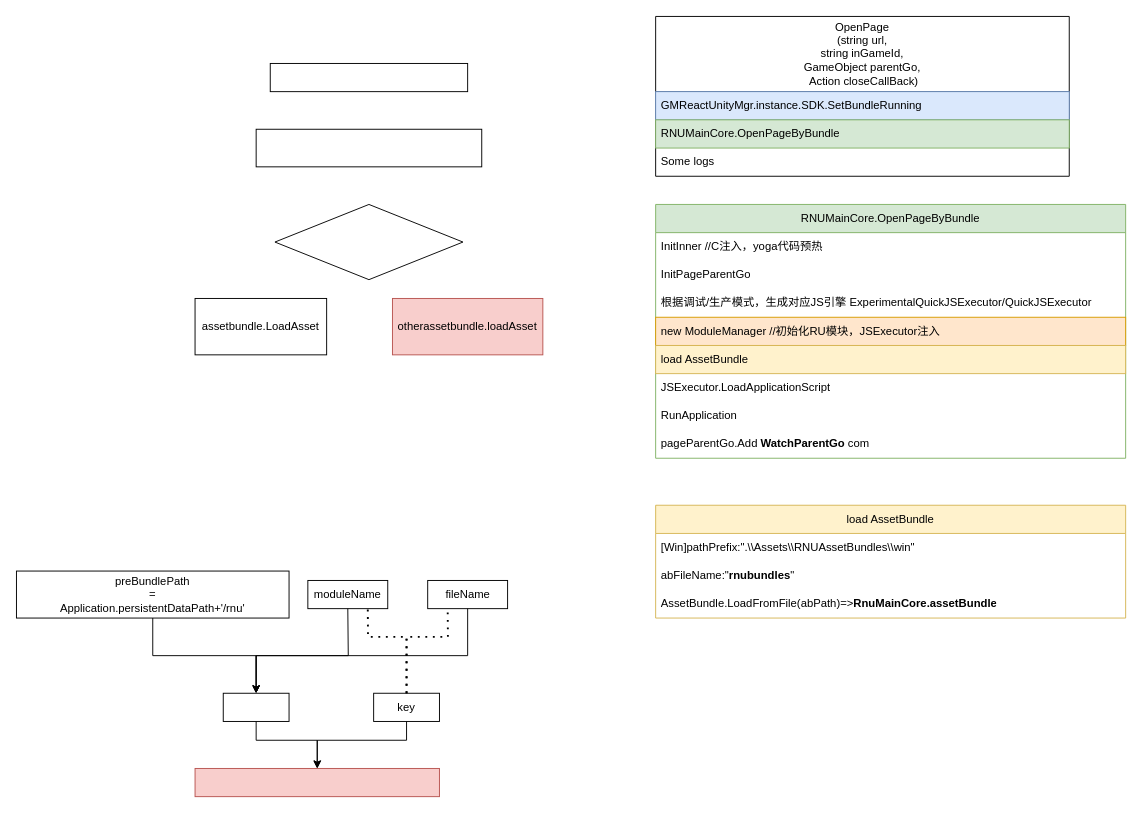
The diagram is 1142 pixels wide and 813 high, and some of its shapes have lost their labels. The centre of each missing label's shape, as x and y in pixels:
"abPath load ab" belongs at (255,706).
"in RNUMainCore.assetBundle ?" belongs at (368,242).
"ReactImage.setMaterial(string material)" belongs at (368,77).
"RNUMainCore.LoadAbFormOtherName otherassetbundle" belongs at (316,782).
"RNUMainCore.LoadMaterial(material)" belongs at (368,147).
